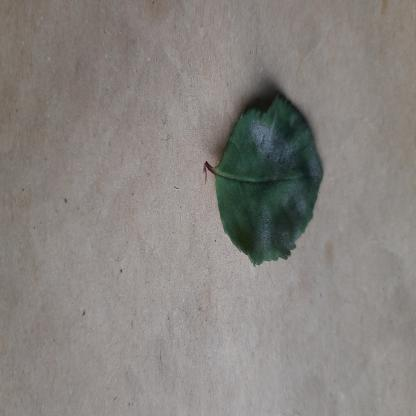powdery-mildew: (213, 94, 325, 270)
